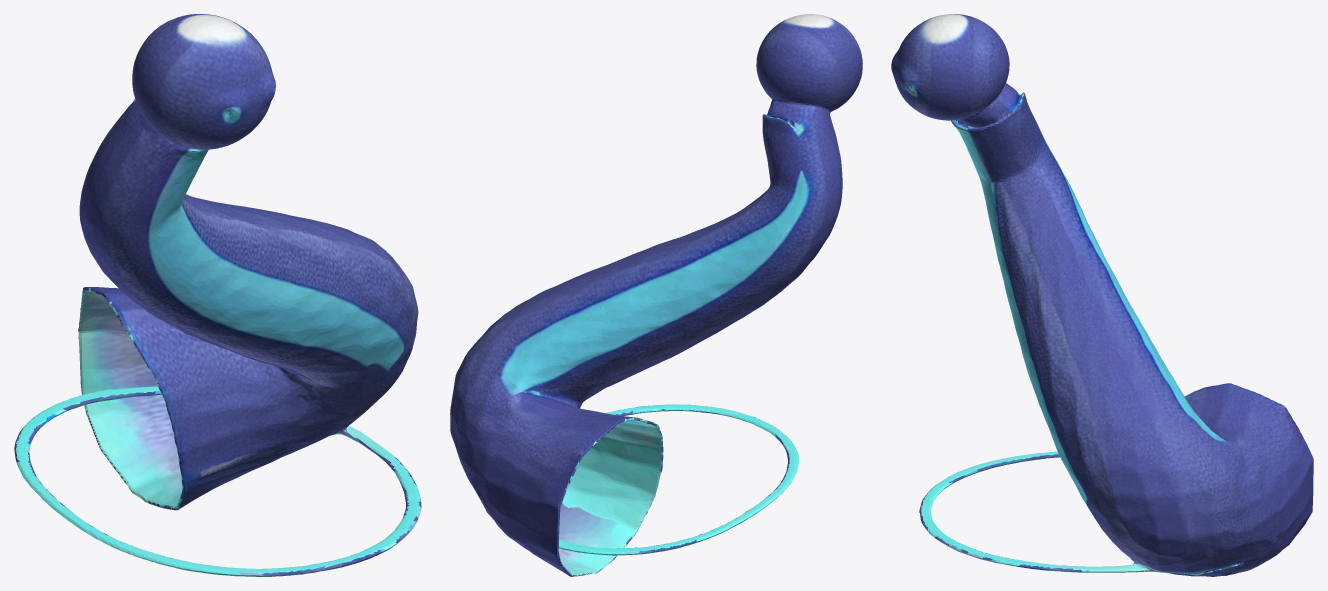
File: creature-098.glb
The picture shows the model from 3 angles, left to right: view 1: azimuth 30°, elevation 25°; view 2: azimuth 150°, elevation 25°; view 3: azimuth 270°, elevation 25°; orthographic projection. The views are drawn at different scales.
Parts seen in each view (by area): view 1: tmp5qr1gipp.ply; view 2: tmp5qr1gipp.ply; view 3: tmp5qr1gipp.ply.
Boxes of the visible parts, box(x1,y1,x2,y2) form: tmp5qr1gipp.ply: box(14, 14, 421, 576); tmp5qr1gipp.ply: box(450, 14, 862, 576); tmp5qr1gipp.ply: box(891, 14, 1313, 576).
Size of the model in its own units: 1.34 by 1.99 by 1.53.
Materials: 1 (1 with a texture image).
